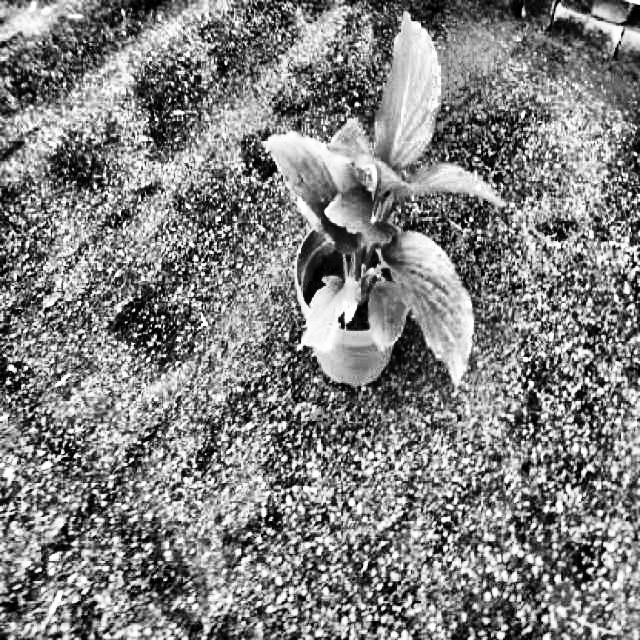plants: (262, 11, 506, 392)
